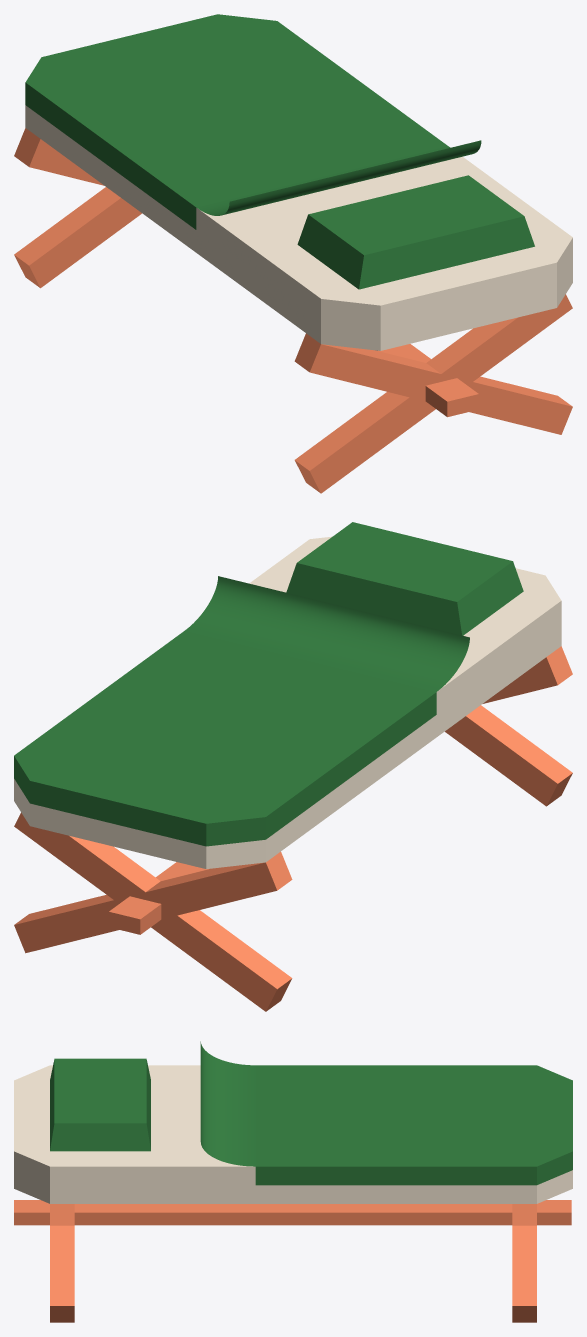
File: bed.glb
3 renders of one model, top to bottom at view 1: azimuth 30°, elevation 25°; view 2: azimuth 150°, elevation 25°; view 3: azimuth 270°, elevation 25°, orthographic. The views are drawn at different scales.
Parts seen in each view (by area): view 1: bed; view 2: bed; view 3: bed.
Boxes of the visible parts, x1,y1,x2,y2 form: bed: (14, 14, 572, 493); bed: (14, 522, 572, 1011); bed: (14, 1041, 572, 1322).
Size of the model in its own units: 0.3349 by 0.2737 by 0.7473.
